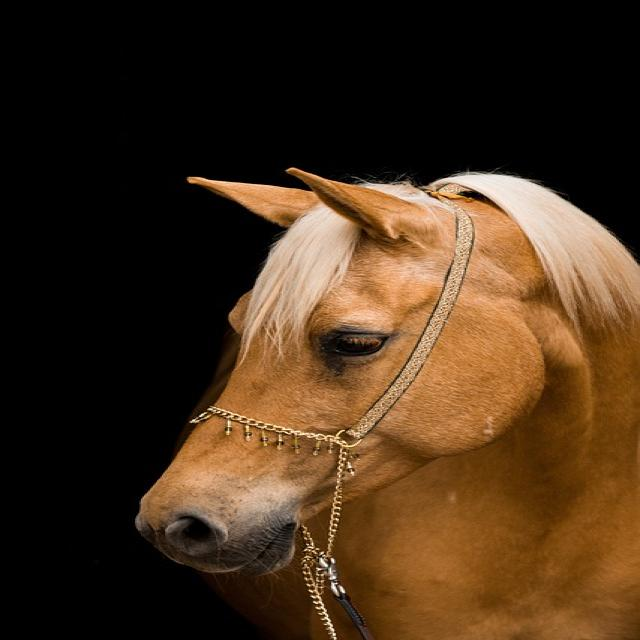Herbivorous: (133, 168, 640, 640)
